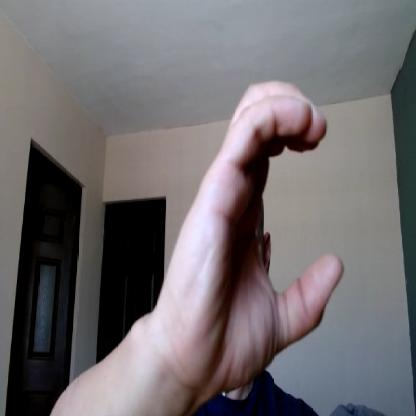C: (160, 79, 344, 390)
